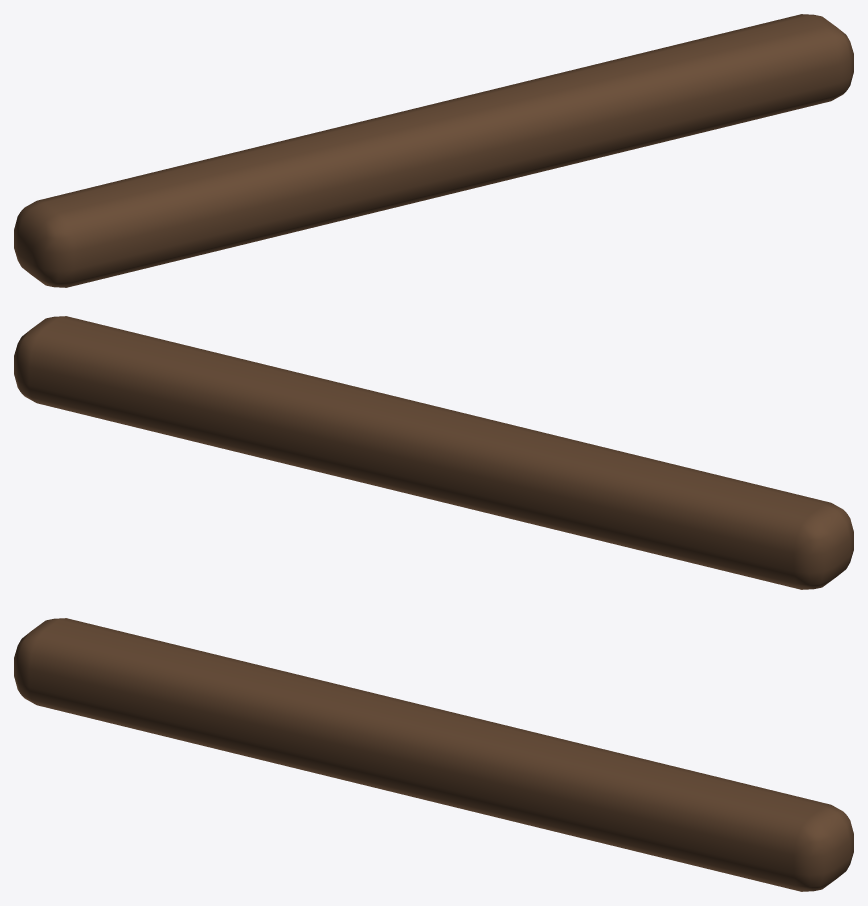
File: rail_bar.glb
The picture shows the model from 3 angles, top to bottom: view 1: azimuth 30°, elevation 25°; view 2: azimuth 150°, elevation 25°; view 3: azimuth 330°, elevation 25°; orthographic projection.
Visible parts, largest first — view 1: House07_rail_bar; view 2: House07_rail_bar; view 3: House07_rail_bar.
Boxes of the visible parts, x1,y1,x2,y2 form: House07_rail_bar: [14, 14, 853, 287]; House07_rail_bar: [14, 316, 853, 589]; House07_rail_bar: [14, 618, 853, 891].
Size of the model in its own units: 1 by 0.085 by 0.095.
